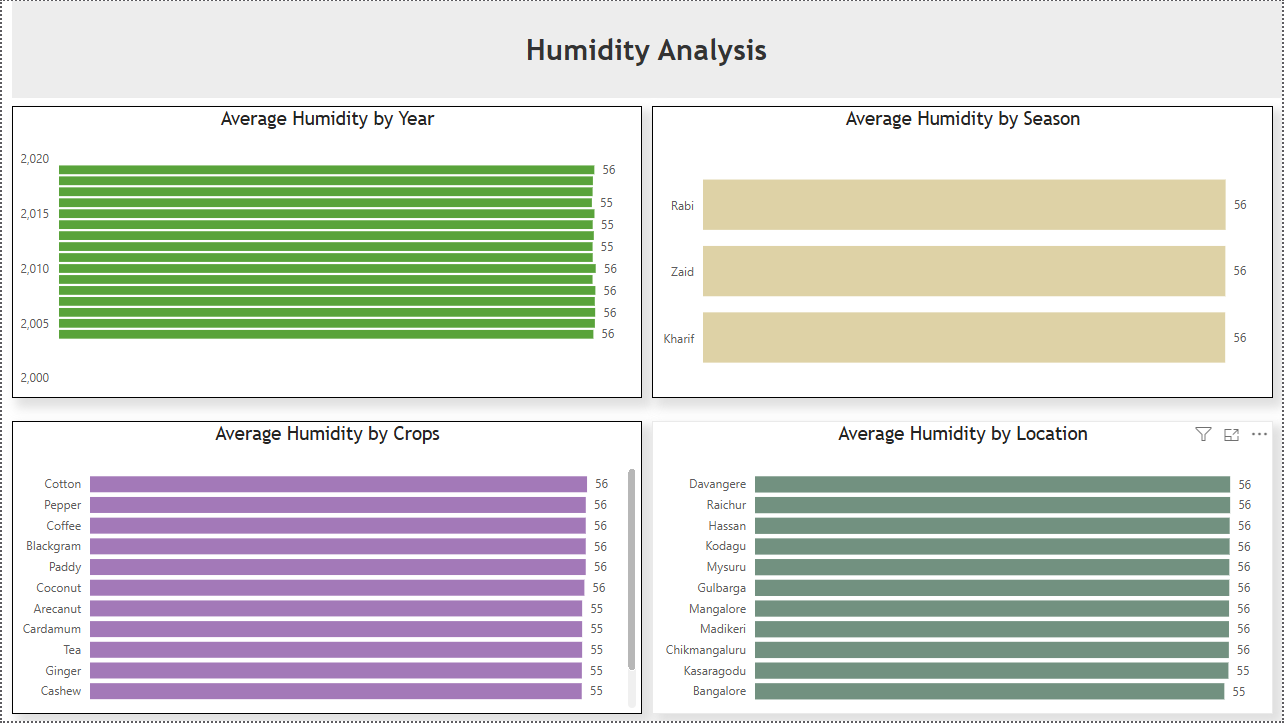

Layout of this report page (visuals, bound fields, positions):
{"tool":"powerbi","page":{"name":"Humidity Analysis","canvas":[1280,720],"ordinal":2},"visuals":[{"type":"shape","box":[9.7,0,1270.3,97.3],"z":0},{"type":"barChart","title":"Average Humidity by Year","fields":{"Category":["AGRICULTURE.YEAR"],"Y":["Avg(AGRICULTURE.HUMIDITY)"]},"box":[9.7,105,630.3,291.8],"z":1000},{"type":"barChart","title":"Average Humidity by Season","fields":{"Category":["AGRICULTURE.SEASON"],"Y":["Avg(AGRICULTURE.HUMIDITY)"]},"box":[649.7,105,621.5,291.8],"z":2000},{"type":"barChart","title":"Average Humidity by Crops","fields":{"Category":["AGRICULTURE.CROPS"],"Y":["Avg(AGRICULTURE.HUMIDITY)"]},"box":[9.7,420.2,630.3,292.8],"z":3000},{"type":"barChart","title":"Average Humidity by Location","fields":{"Category":["AGRICULTURE.LOCATION"],"Y":["Avg(AGRICULTURE.HUMIDITY)"]},"box":[649.7,420.2,621.5,292.8],"z":4000}]}

Visuals, with their boxes in screenshot pixels (x1, y1, x2, y2), scaled from the page's 1280x720 canvas onto the 1284x723 screenshot:
shape: {"left": 10, "top": 0, "right": 1283, "bottom": 98}
"Average Humidity by Year" barChart: {"left": 10, "top": 105, "right": 642, "bottom": 398}
"Average Humidity by Season" barChart: {"left": 652, "top": 105, "right": 1275, "bottom": 398}
"Average Humidity by Crops" barChart: {"left": 10, "top": 422, "right": 642, "bottom": 716}
"Average Humidity by Location" barChart: {"left": 652, "top": 422, "right": 1275, "bottom": 716}
